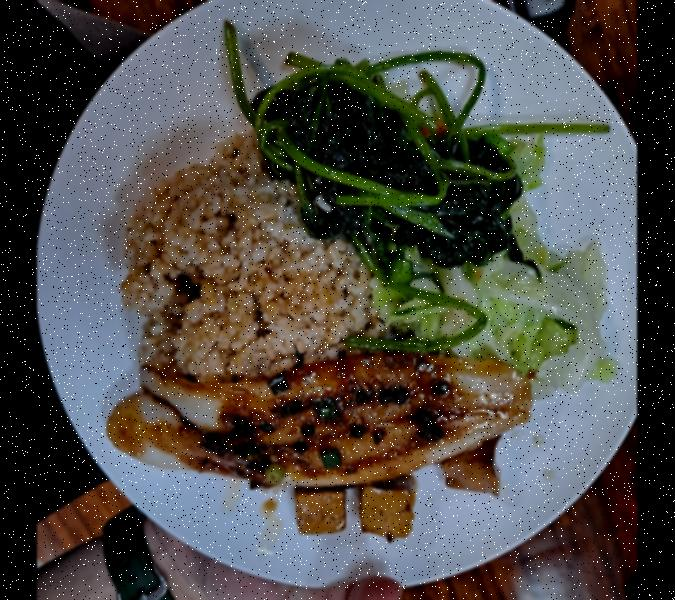braised fish fillet: (101, 368, 520, 484)
brown rice: (128, 183, 350, 378)
plate: (49, 0, 636, 600)
side dish: (242, 47, 522, 256), (391, 251, 603, 358), (281, 484, 427, 544)
